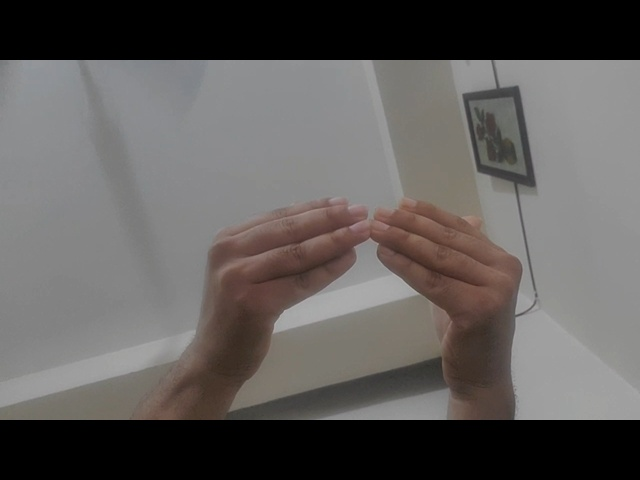Thank you: (185, 187, 536, 395)
